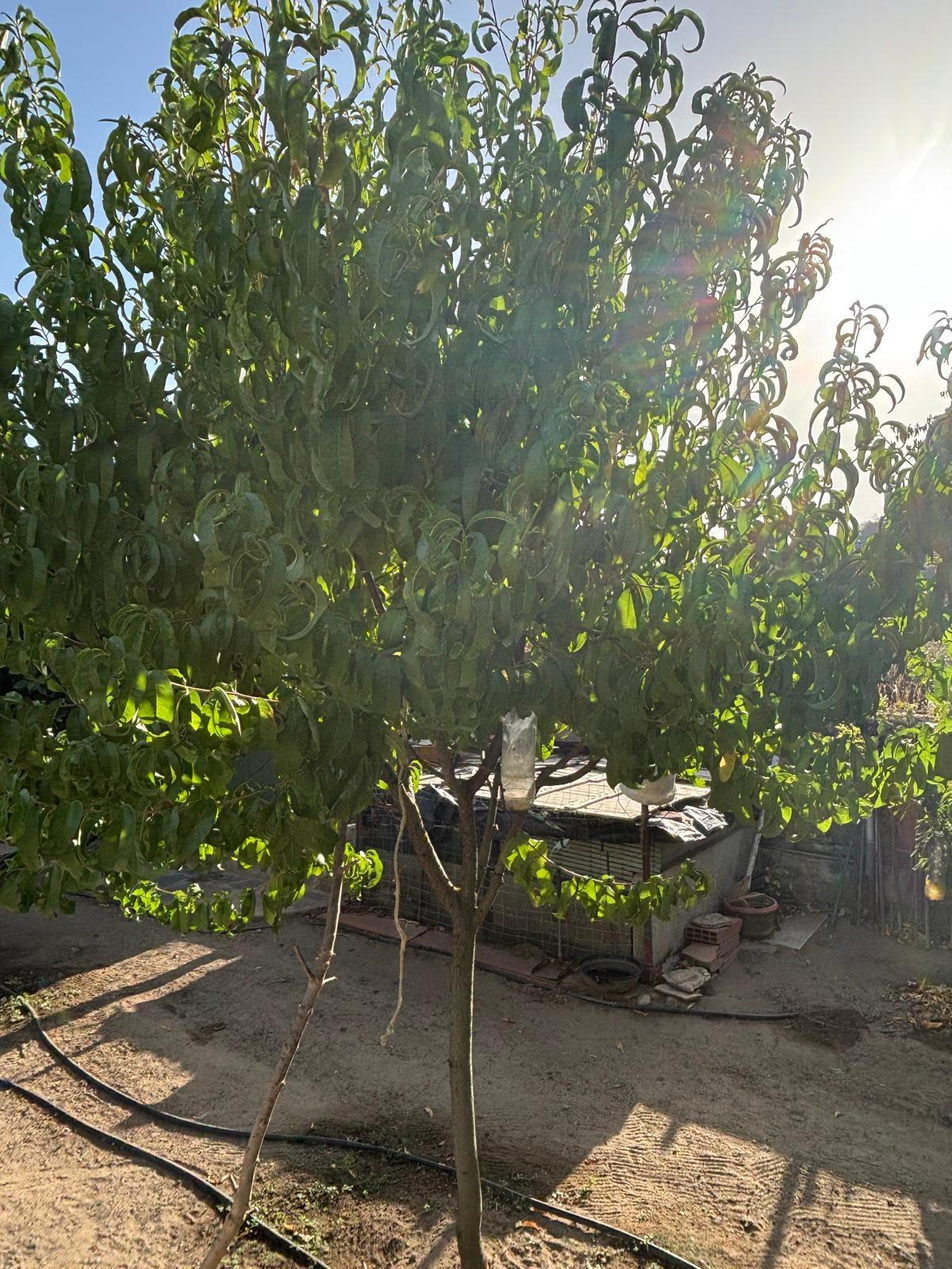melocotonero: (119, 172, 749, 1263)
